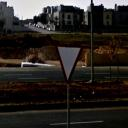preferencia: (53, 42, 84, 84)
